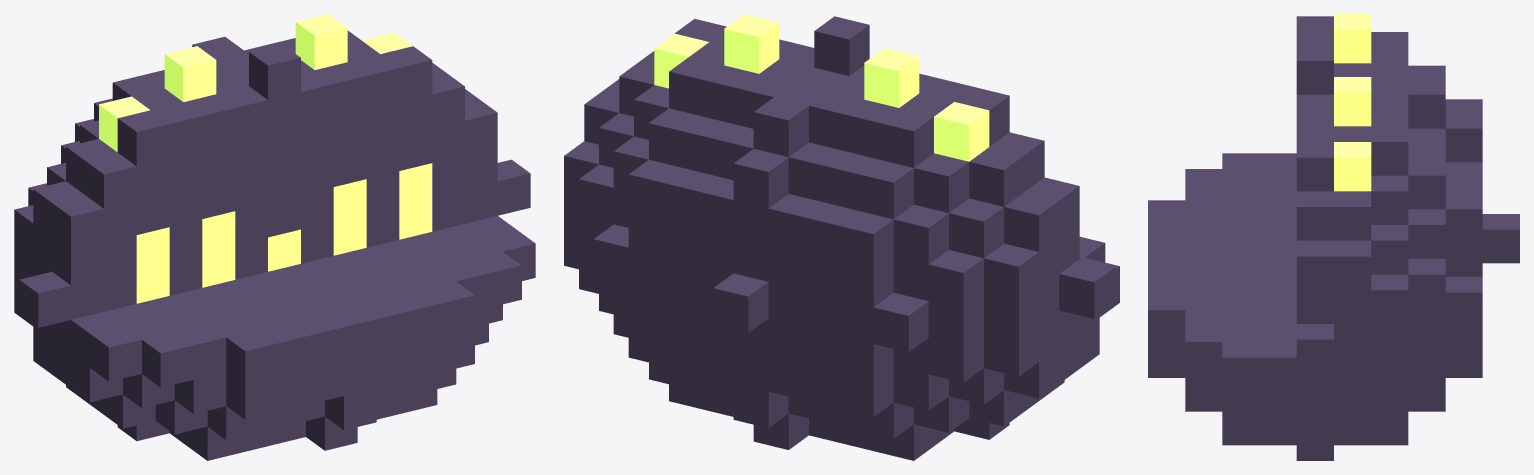
Rendered from alien-biosphere-shattered-geode-6c05b316__22753.glb.
3 views of the same model, side by side, from view 1: azimuth 30°, elevation 25°; view 2: azimuth 150°, elevation 25°; view 3: azimuth 270°, elevation 25° (orthographic). The views are drawn at different scales.
Visible parts, largest first — view 1: shattered-geode; view 2: shattered-geode; view 3: shattered-geode.
Part boxes in pixels (x1,y1,x2,y2): shattered-geode: [14, 14, 535, 460]; shattered-geode: [564, 14, 1119, 460]; shattered-geode: [1148, 14, 1519, 460].
Size of the model in its own units: 3 by 2.2 by 2.
